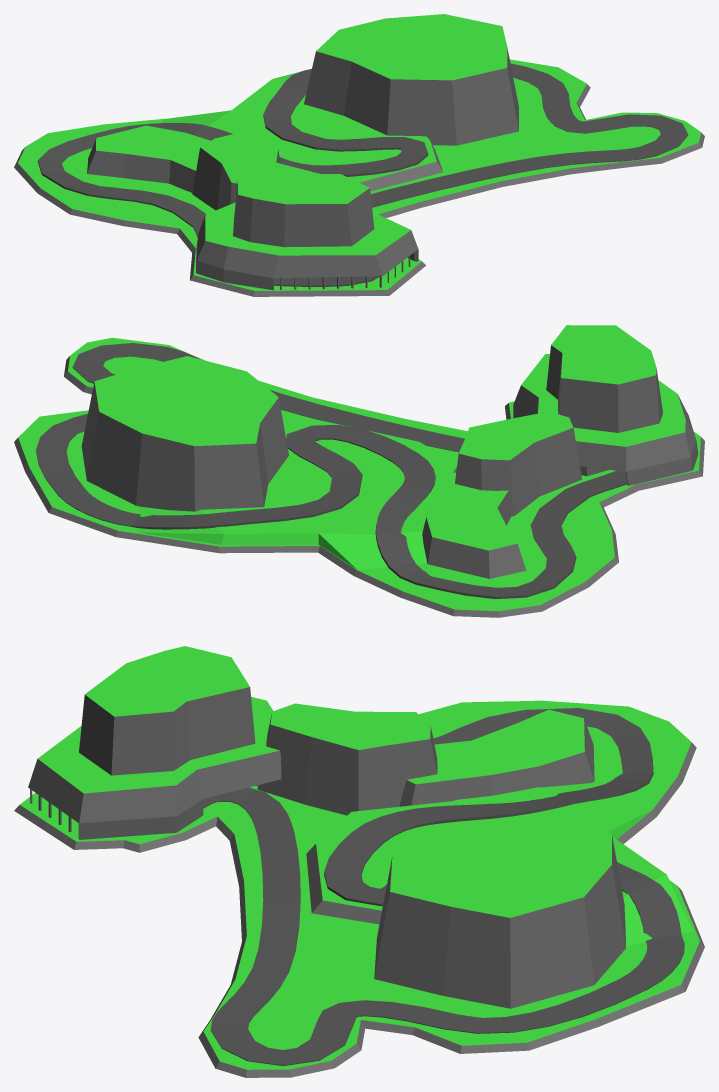
Rendered from track_blockout_01.glb.
3 views of the same model, one above another, from view 1: azimuth 30°, elevation 25°; view 2: azimuth 150°, elevation 25°; view 3: azimuth 270°, elevation 25° (orthographic). The views are drawn at different scales.
Visible parts, largest first — view 1: island; view 2: island; view 3: island.
Part boxes in pixels (x1,y1,x2,y2): island: (14, 14, 704, 296); island: (14, 325, 704, 617); island: (14, 646, 704, 1077).
Size of the model in its own units: 483 by 66.92 by 378.
